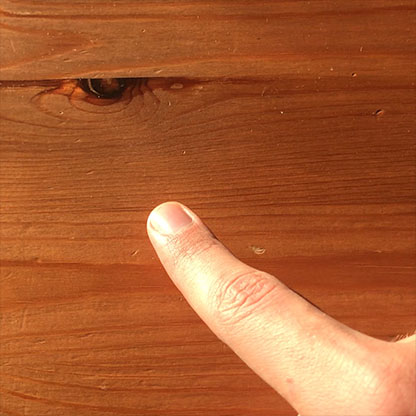fingertip: (137, 200, 216, 256)
